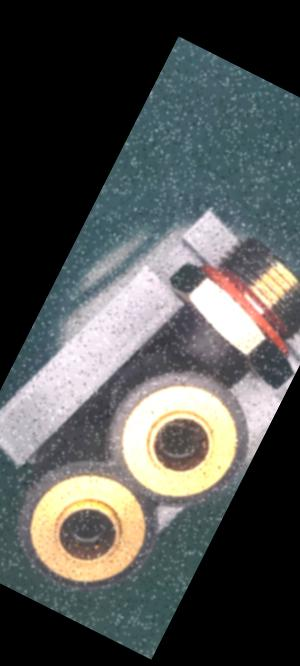bump: (8, 482, 38, 521)
off-centered: (147, 411, 213, 472)
white mark: (207, 339, 233, 360)
